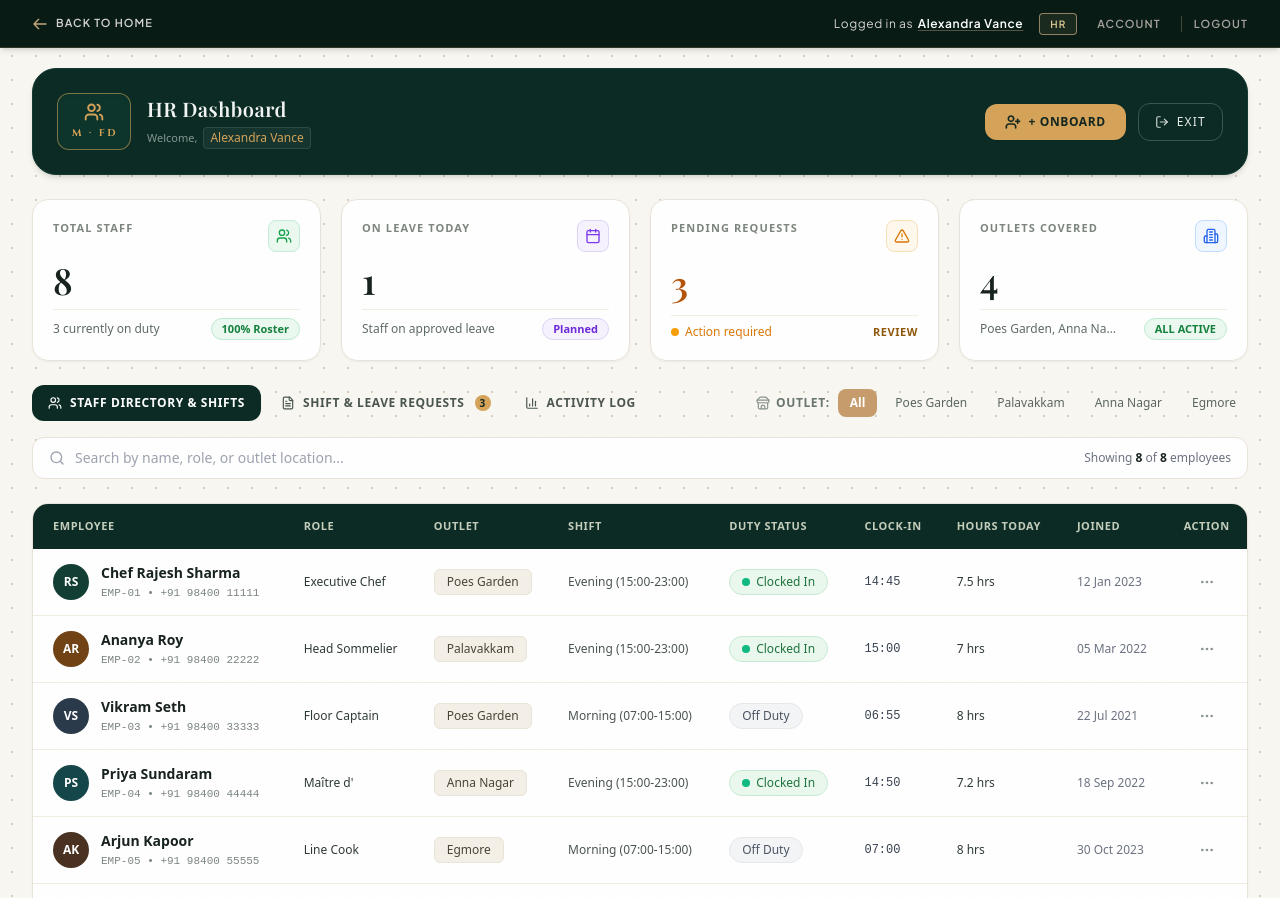
HR Dashboard Integration and Routing › switches to Shift & Leave Requests tab and renders pending requests
The width and height of the screenshot is (1280, 898).
Click the button "Shift & Leave Requests 3" at x=386, y=403, box x1=267 y1=385 x2=504 y2=421
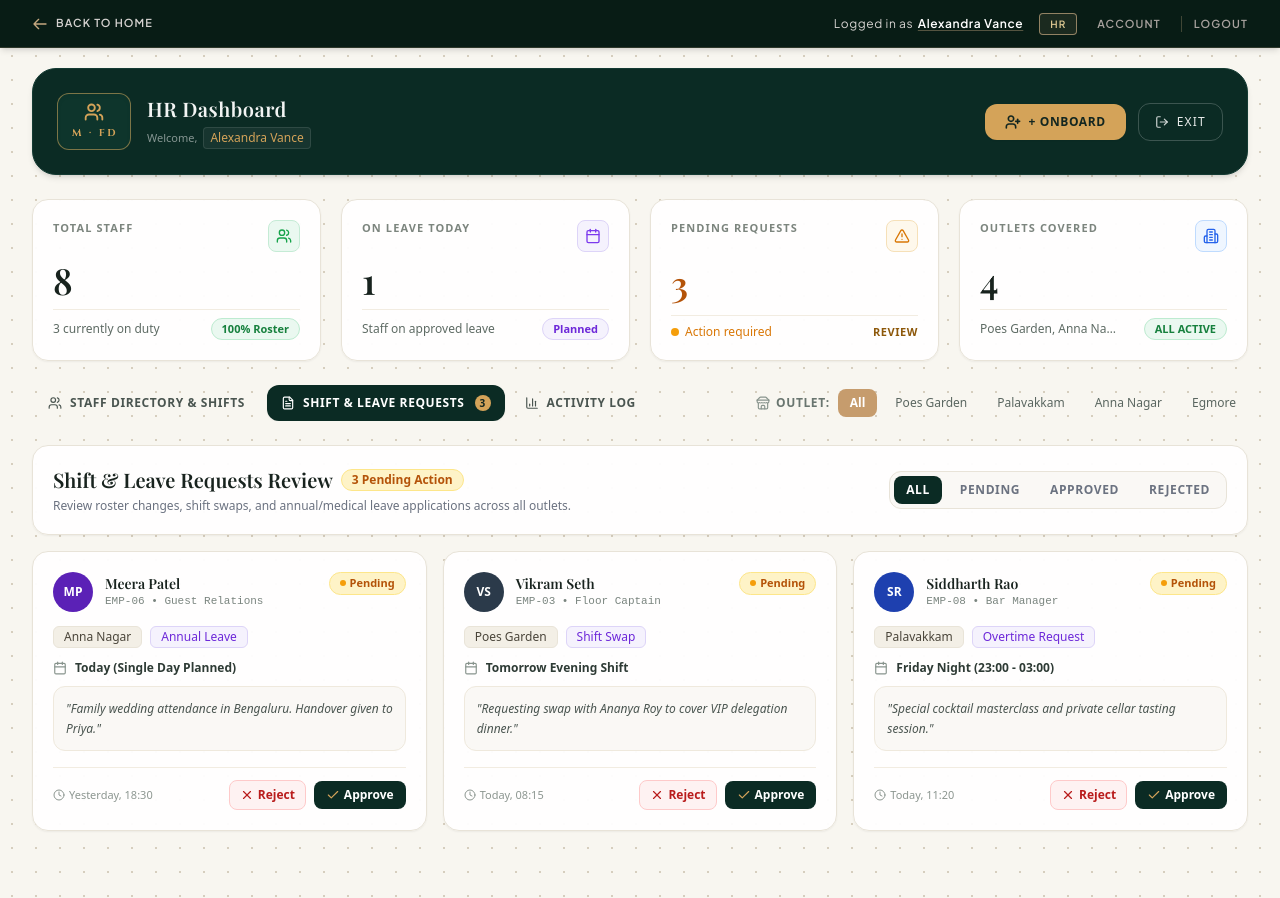
Expected: the heading "Meera Patel" is shown, x1=105 y1=574 x2=180 y2=593
Expected: the heading "Shift & Leave Requests Review" is shown, x1=53 y1=466 x2=333 y2=494
Expected: the text "Annual Leave" is shown, x1=150 y1=626 x2=248 y2=648
